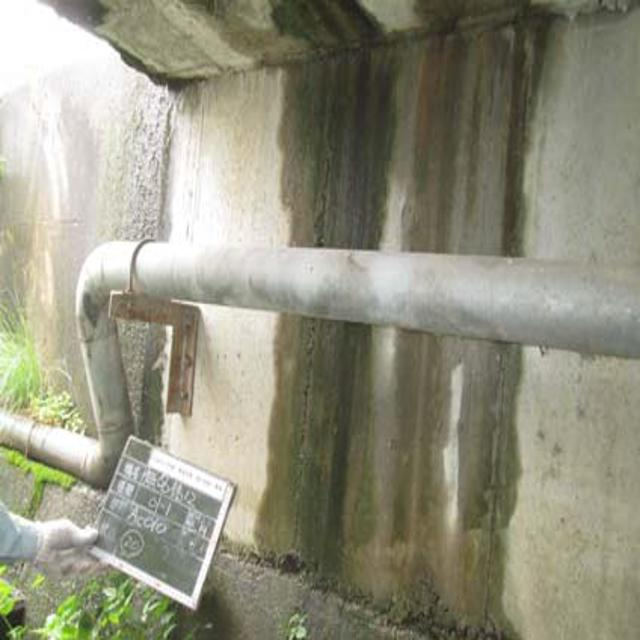leakage: (259, 16, 514, 623)
